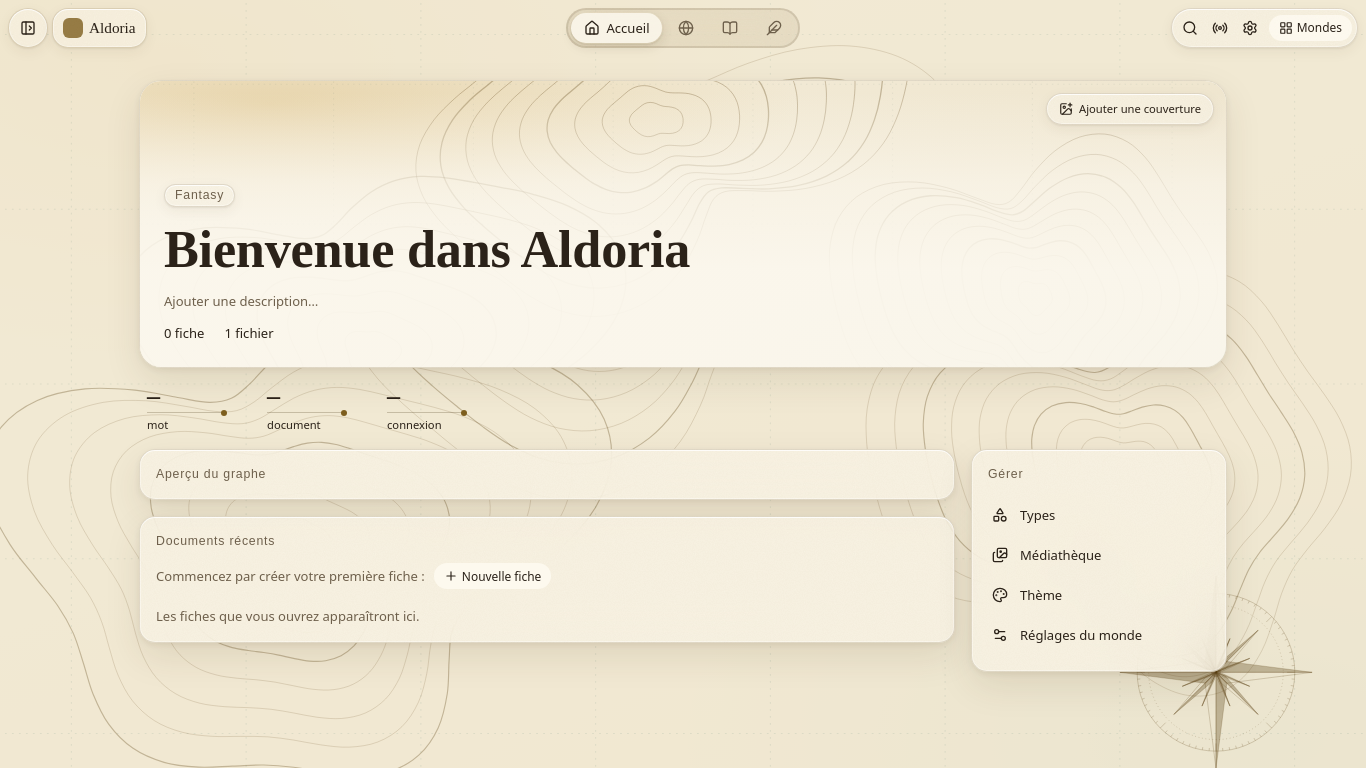
Test: the world island opens the world's card, which leads to the general section
What coordinates should you click on to do the following:
click the button with aria-label "Monde courant : Aldoria"
I would click on:
 (99, 28)
Its box is [52,8,147,48].
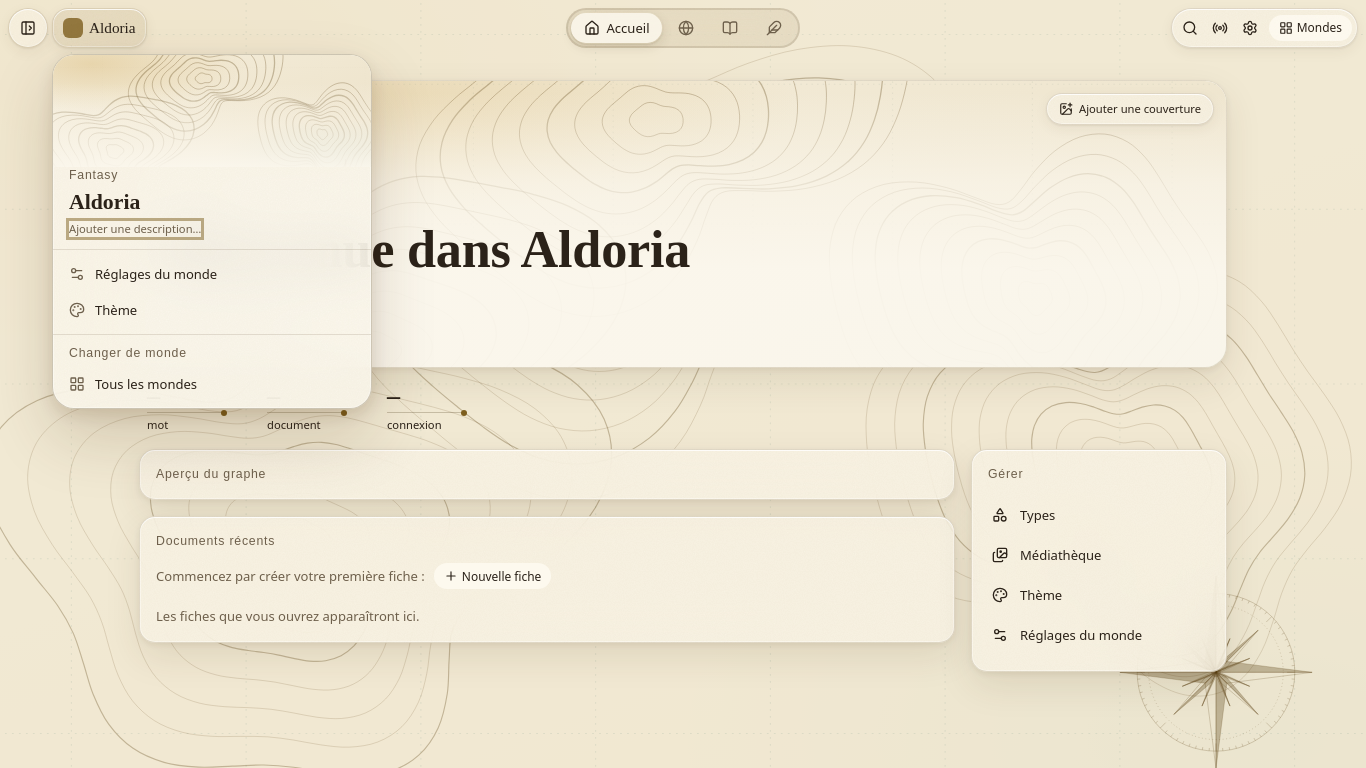
Expected: the 1st button "Thème" is shown, [59,292,365,328]
Expected: the button "Tous les mondes" is shown, [59,366,365,402]
What coordinates should you click on to do the following:
click the 1st button "Réglages du monde"
I would click on:
 (212, 274)
Its box is [59,256,365,292].
(page scrolled)
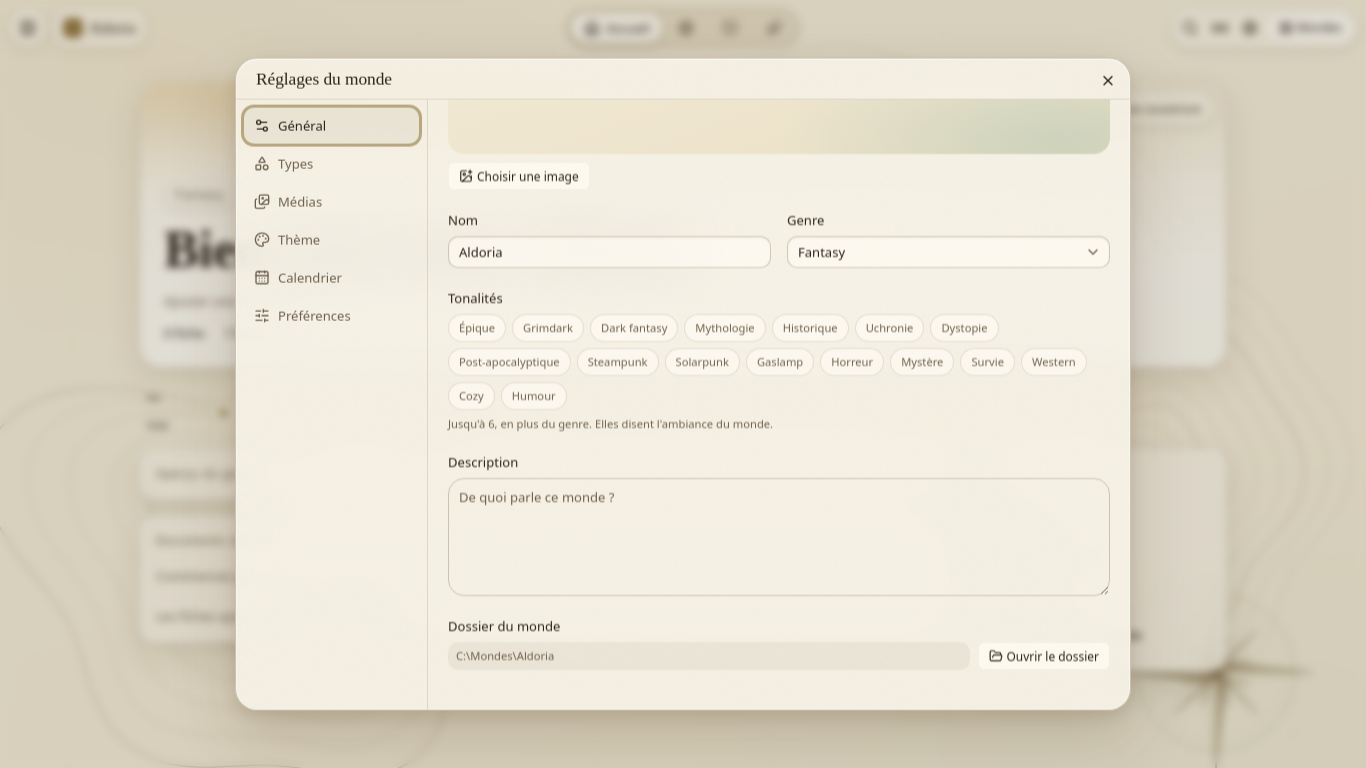
Expected: the text "C:\\Mondes\\Aldoria" is shown, [456,647,554,663]
